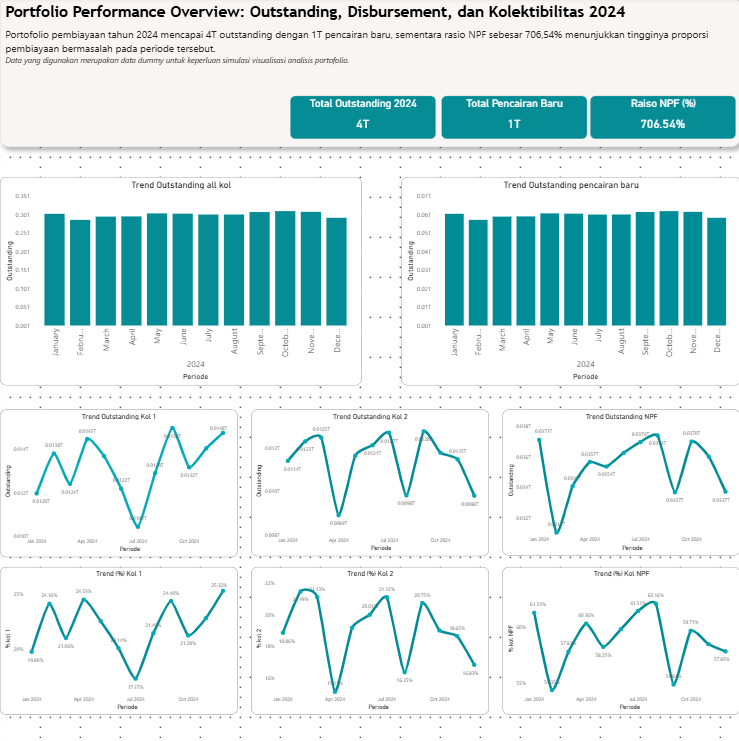

What the dashboard file says about the page in this screenshot:
{"tool":"powerbi","page":{"name":"Page 1","canvas":[1776,1845],"ordinal":0},"visuals":[{"type":"clusteredColumnChart","title":"Trend Outstanding all kol","fields":{"Category":["persen_per kol.Periode.Variation.Date Hierarchy.Year","persen_per kol.Periode.Variation.Date Hierarchy.Month"],"Y":["Sum(persen_per kol.total_os_all)"]},"box":[0,516,868,500],"z":0},{"type":"clusteredColumnChart","title":"Trend Outstanding pencairan baru","fields":{"Category":["persen_per kol.Periode.Variation.Date Hierarchy.Year","persen_per kol.Periode.Variation.Date Hierarchy.Month"],"Y":["Sum(persen_per kol.total_os_all)"]},"box":[962,516,814,500],"z":1000},{"type":"lineChart","title":"Trend Outstanding Kol 1","fields":{"Category":["persen_per kol.Periode.Variation.Date Hierarchy.Year","persen_per kol.Periode.Variation.Date Hierarchy.Month"],"Y":["Sum(persen_per kol.total_os_by_kol)"]},"box":[0,1073.2,570,354],"z":2000},{"type":"lineChart","title":"Trend (%) Kol 1 ","fields":{"Y":["Sum(persen_per kol.Column)"],"Category":["persen_per kol.Periode.Variation.Date Hierarchy.Year","persen_per kol.Periode.Variation.Date Hierarchy.Month"]},"box":[0,1450,570,354],"z":3000},{"type":"lineChart","title":"Trend Outstanding Kol 2","fields":{"Category":["persen_per kol.Periode.Variation.Date Hierarchy.Year","persen_per kol.Periode.Variation.Date Hierarchy.Month"],"Y":["Sum(persen_per kol.total_os_by_kol)"]},"box":[604,1073.2,570,352],"z":4000},{"type":"lineChart","title":"Trend (%) Kol 2","fields":{"Y":["Sum(persen_per kol.Column)"],"Category":["persen_per kol.Periode.Variation.Date Hierarchy.Year","persen_per kol.Periode.Variation.Date Hierarchy.Month"]},"box":[604,1450,570,354],"z":5000},{"type":"lineChart","title":"Trend Outstanding NPF","fields":{"Category":["persen_per kol.Periode.Variation.Date Hierarchy.Year","persen_per kol.Periode.Variation.Date Hierarchy.Month"],"Y":["Sum(persen_per kol.total_os_by_kol)"]},"box":[1206,1073.2,570,350],"z":6000},{"type":"lineChart","title":"Trend (%) Kol NPF","fields":{"Y":["Sum(persen_per kol.Column)"],"Category":["persen_per kol.Periode.Variation.Date Hierarchy.Year","persen_per kol.Periode.Variation.Date Hierarchy.Month"]},"box":[1206,1450,570,354],"z":7000},{"type":"textbox","box":[0,0,1776,360],"z":8000},{"type":"card","title":"Total Outstanding 2024","fields":{"Values":["Sum(persen_per kol.total_os_all)"]},"box":[696,238,350,104],"z":9000},{"type":"card","title":"Total Pencairan Baru","fields":{"Values":["Sum(persen_per kol.total_os_all)"]},"box":[1058.8,238,350,104],"z":10000},{"type":"card","title":"Raiso NPF (%)","fields":{"Values":["Sum(persen_per kol.Column)"]},"box":[1416,238,350,104],"z":11000}]}

Visuals, with their boxes on the page's 1776x1845 design canvas (x1, y1, x2, y2). These are canvas units, not pixel positions in the 739x741 screenshot, which may show the page scaled, cropped or inside an application window:
"Trend Outstanding all kol" clusteredColumnChart: (0,516,868,1016)
"Trend Outstanding pencairan baru" clusteredColumnChart: (962,516,1776,1016)
"Trend Outstanding Kol 1" lineChart: (0,1073,570,1427)
"Trend (%) Kol 1 " lineChart: (0,1450,570,1804)
"Trend Outstanding Kol 2" lineChart: (604,1073,1174,1425)
"Trend (%) Kol 2" lineChart: (604,1450,1174,1804)
"Trend Outstanding NPF" lineChart: (1206,1073,1776,1423)
"Trend (%) Kol NPF" lineChart: (1206,1450,1776,1804)
textbox: (0,0,1776,360)
"Total Outstanding 2024" card: (696,238,1046,342)
"Total Pencairan Baru" card: (1059,238,1409,342)
"Raiso NPF (%)" card: (1416,238,1766,342)
